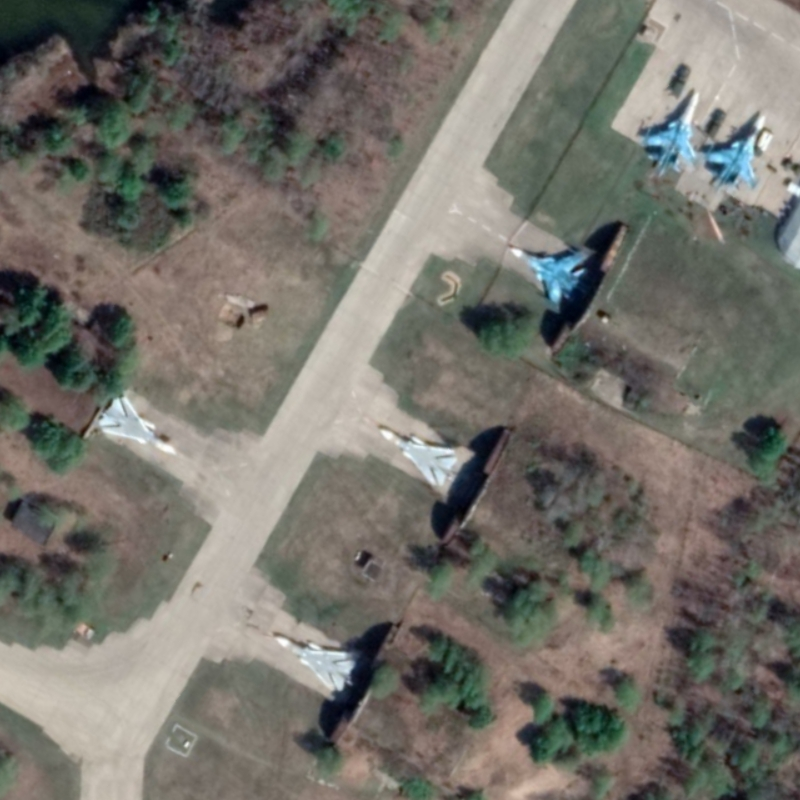A19: (508, 244, 591, 315), (639, 90, 703, 179), (703, 113, 767, 196)
A20: (273, 634, 358, 693), (377, 428, 459, 489), (97, 395, 179, 455)
